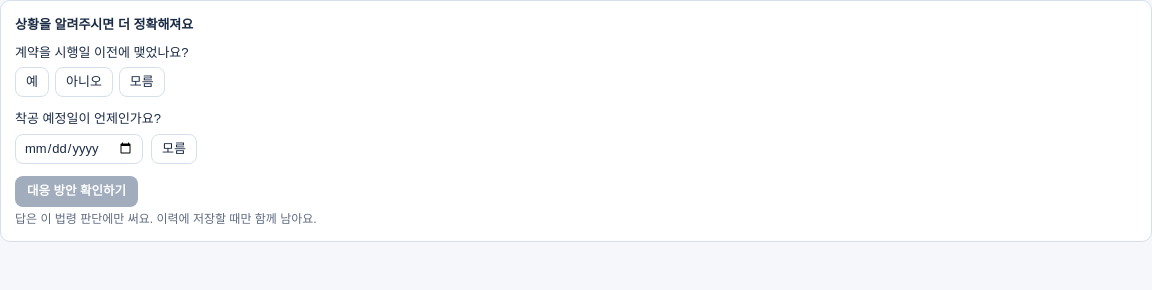
Scenario: ActionSituation › 지운 날짜는 보내지 않는다
Click the button "예".
click(32, 82)  # box [15,67,49,97]
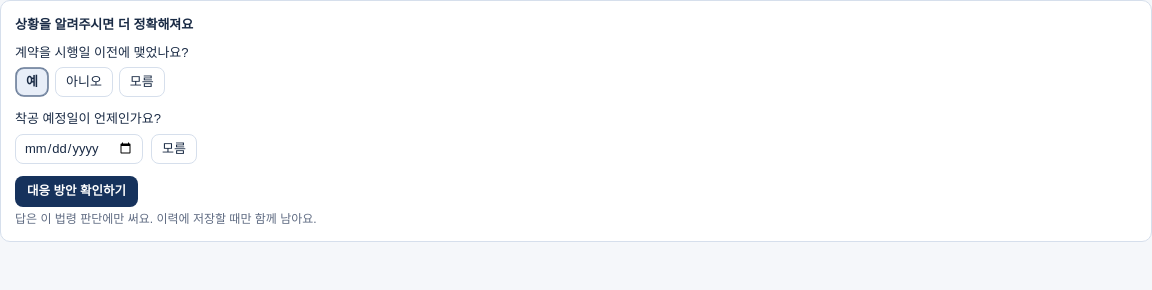
Type "2027-03-01" into the date field named "착공 예정일이 언제인가요?".
click(79, 149); type("2027-03-01")  # box [15,134,143,164]
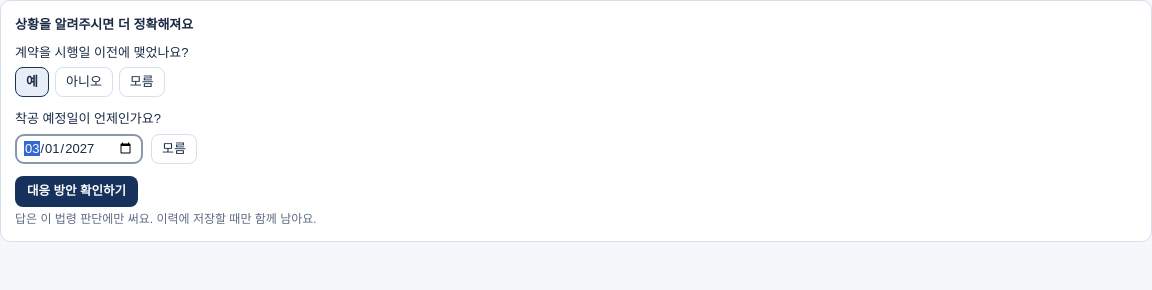
Clear the date field named "착공 예정일이 언제인가요?" at (79, 149), box [15,134,143,164]
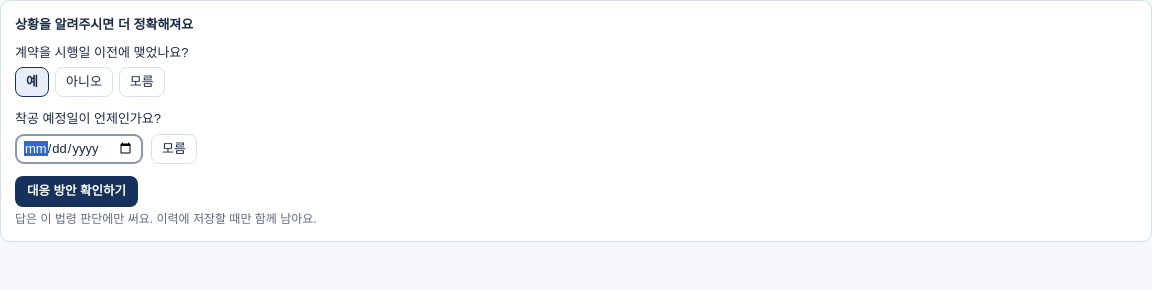
Click the button "대응 방안 확인하기".
click(76, 191)  # box [15,176,138,207]
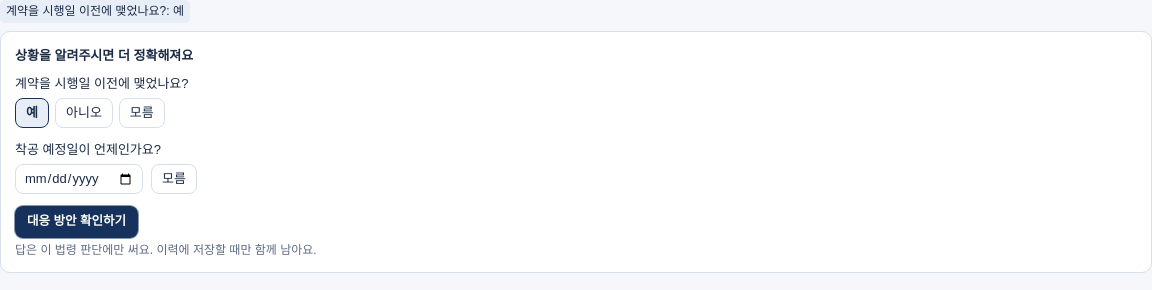
Now the list item "계약을 시행일 이전에 맺었나요?: 예" is shown, box [0,0,190,23]
